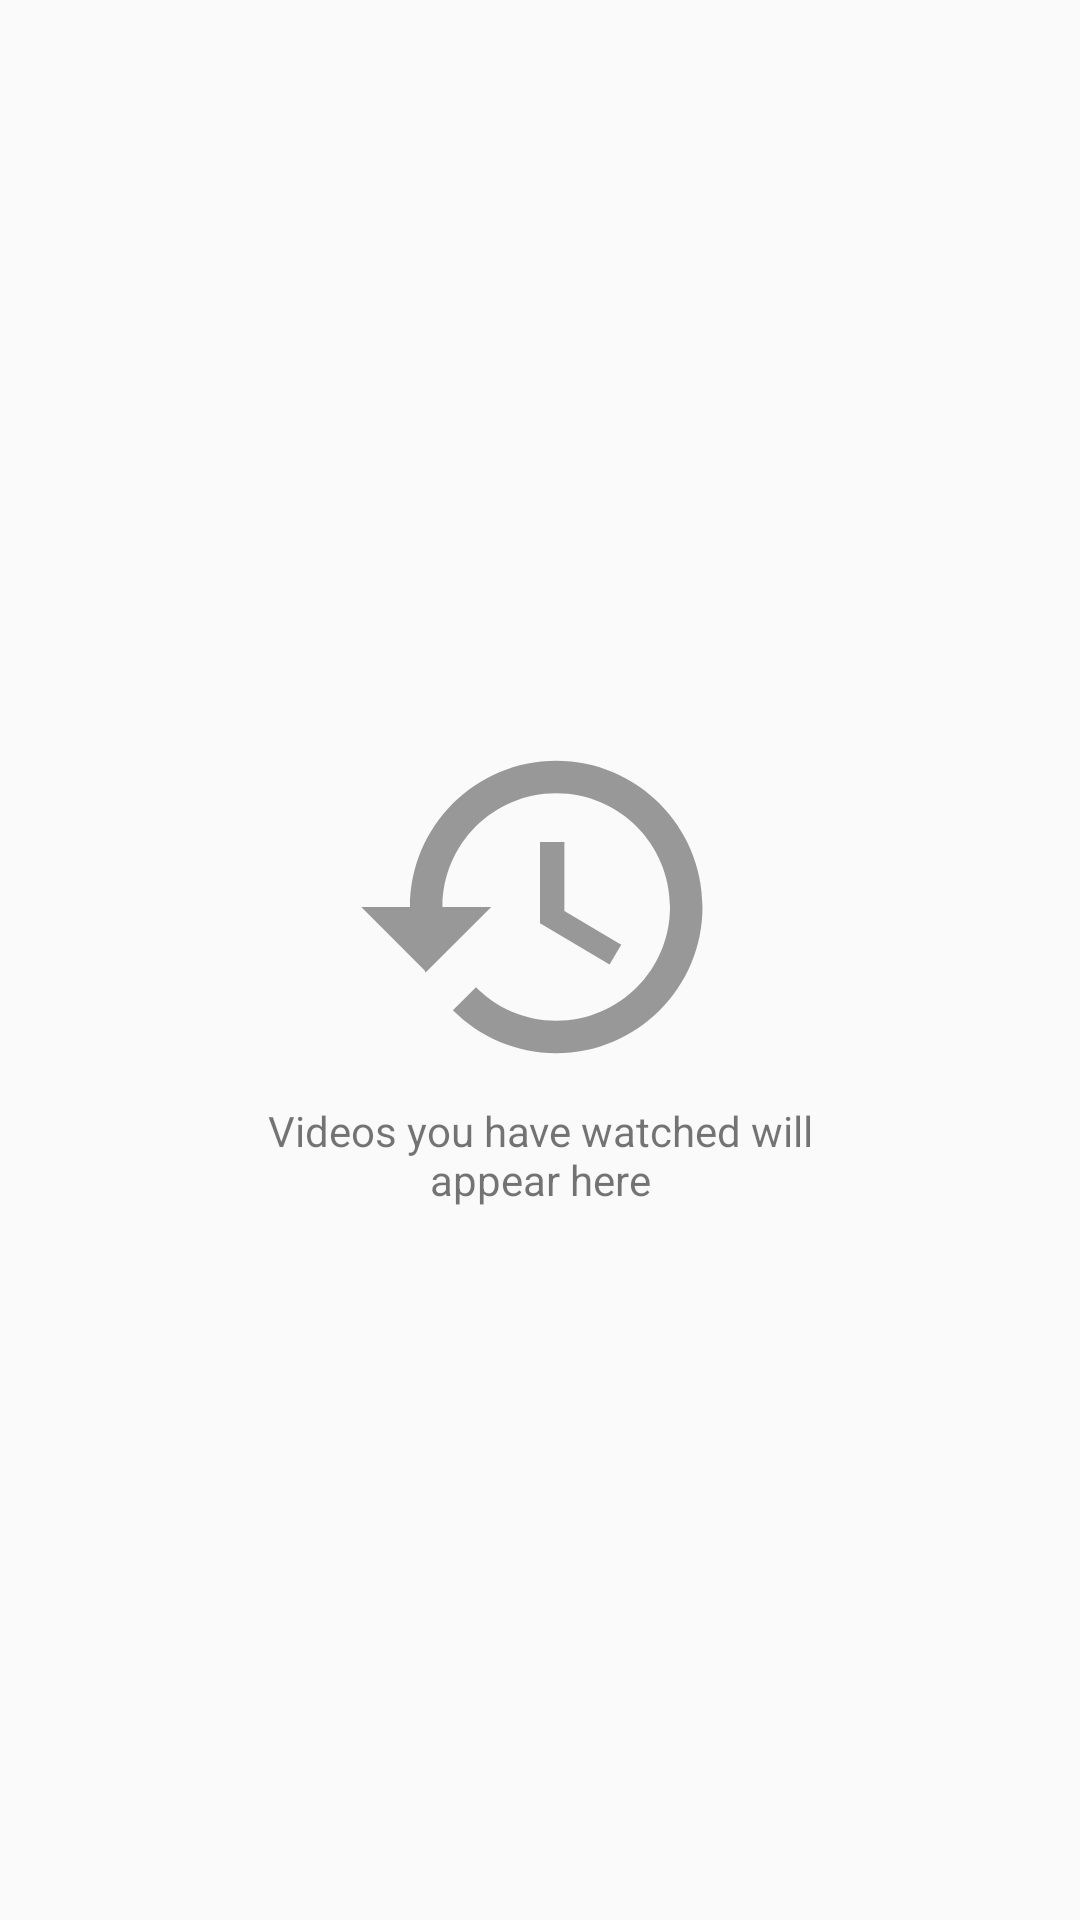

Point at icon controls on the screen. Image size 1080px x 1920px, points as [x,y].
history: [532,907]
